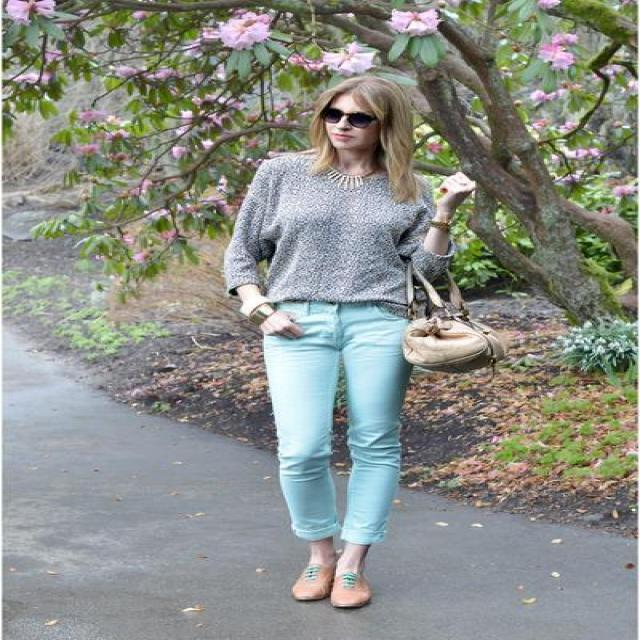bag: (391, 302, 492, 386)
pants: (258, 303, 444, 544)
shirt: (211, 149, 451, 320)
shoe: (293, 543, 363, 604)
sunglass: (320, 92, 363, 127)
